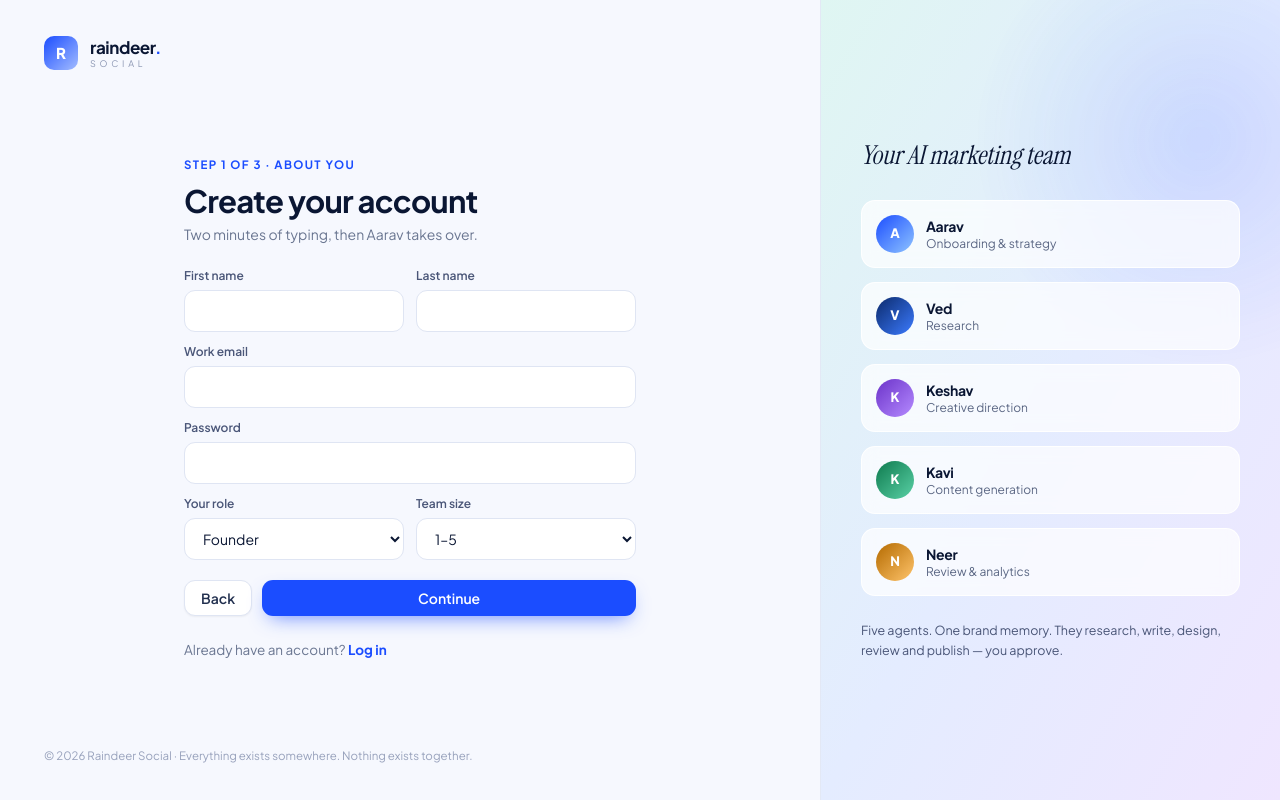
Test: SignupPage › shows the backend's error message and doesn't navigate when the email is already taken
Type "Ananya" into the field labelled "First name".
click(294, 311); type("Ananya")  # box [184,290,404,332]
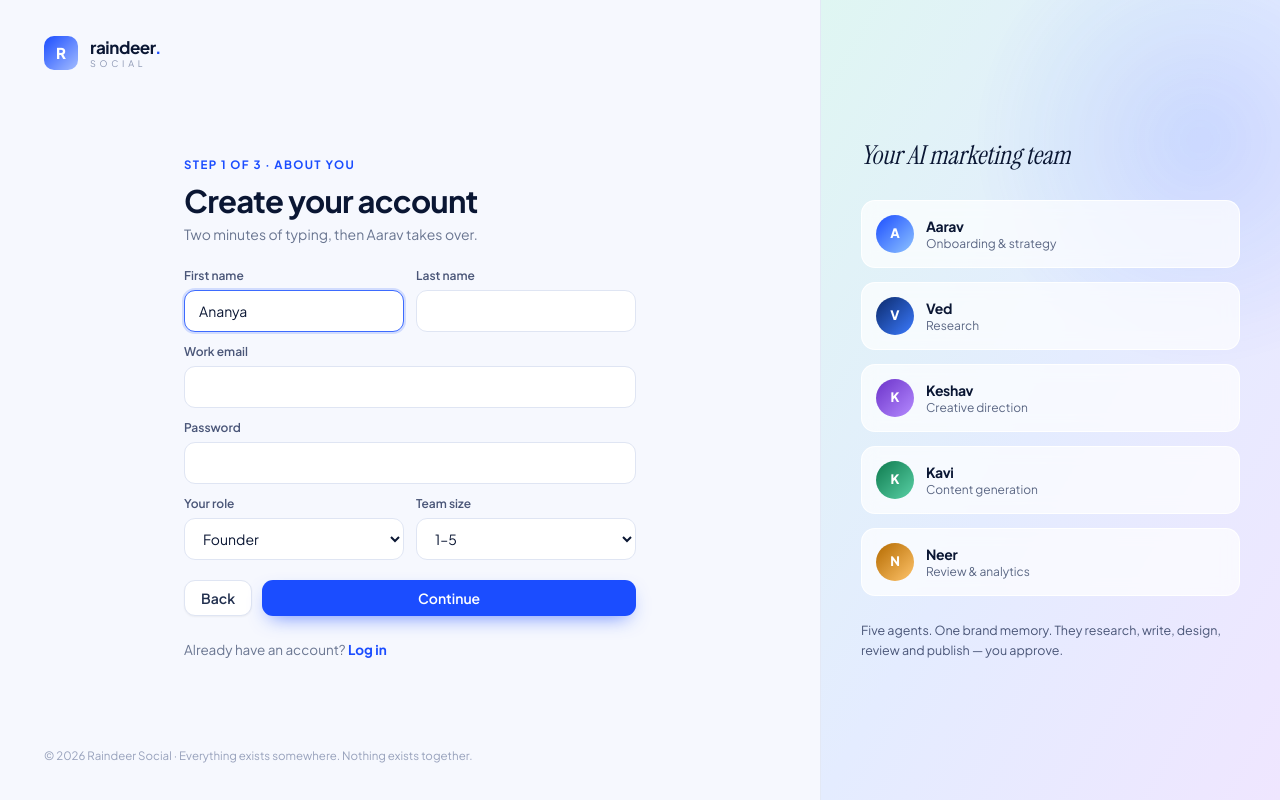
Type "Rao" into the field labelled "Last name".
click(526, 311); type("Rao")  # box [416,290,636,332]
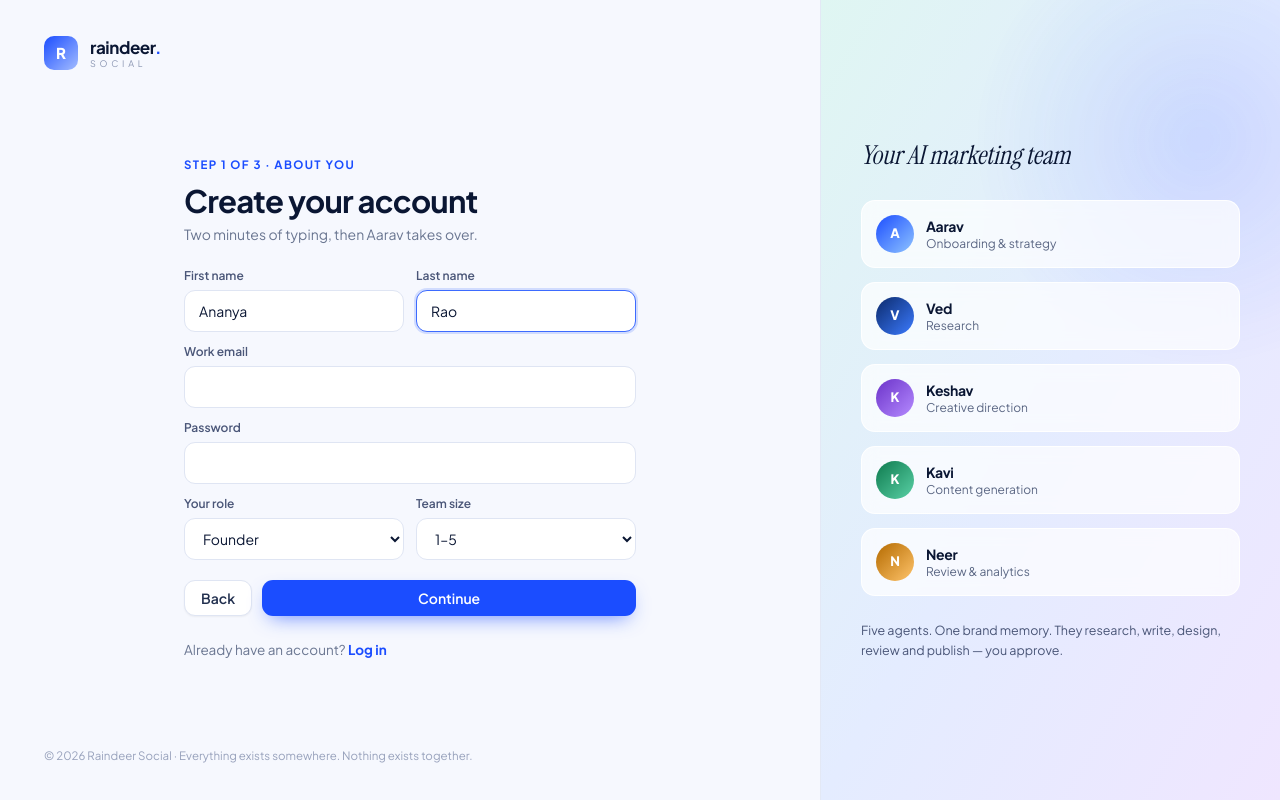
Type "taken@lexstart.in" into the field labelled "Work email".
click(410, 387); type("taken@lexstart.in")  # box [184,366,636,408]
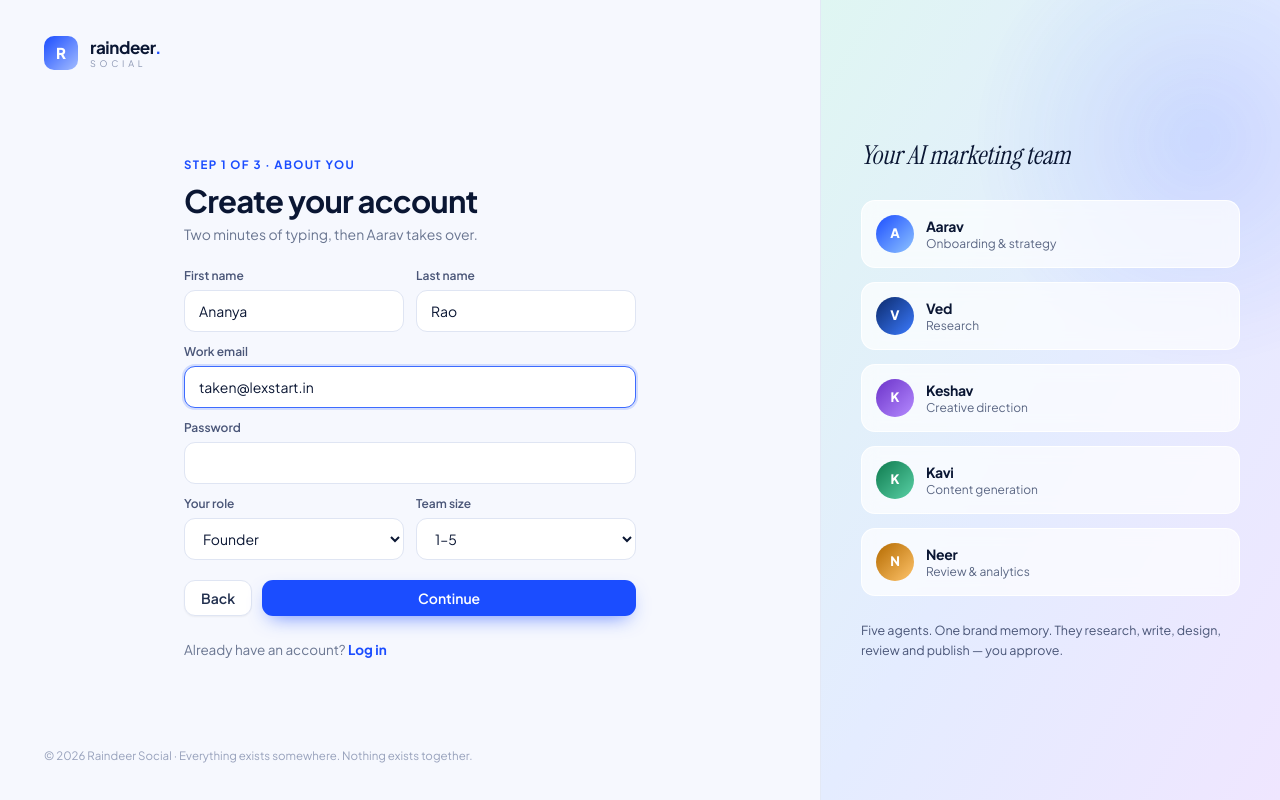
Type "correct horse battery staple" into the password field labelled "Password".
click(410, 463); type("correct horse battery staple")  # box [184,442,636,484]
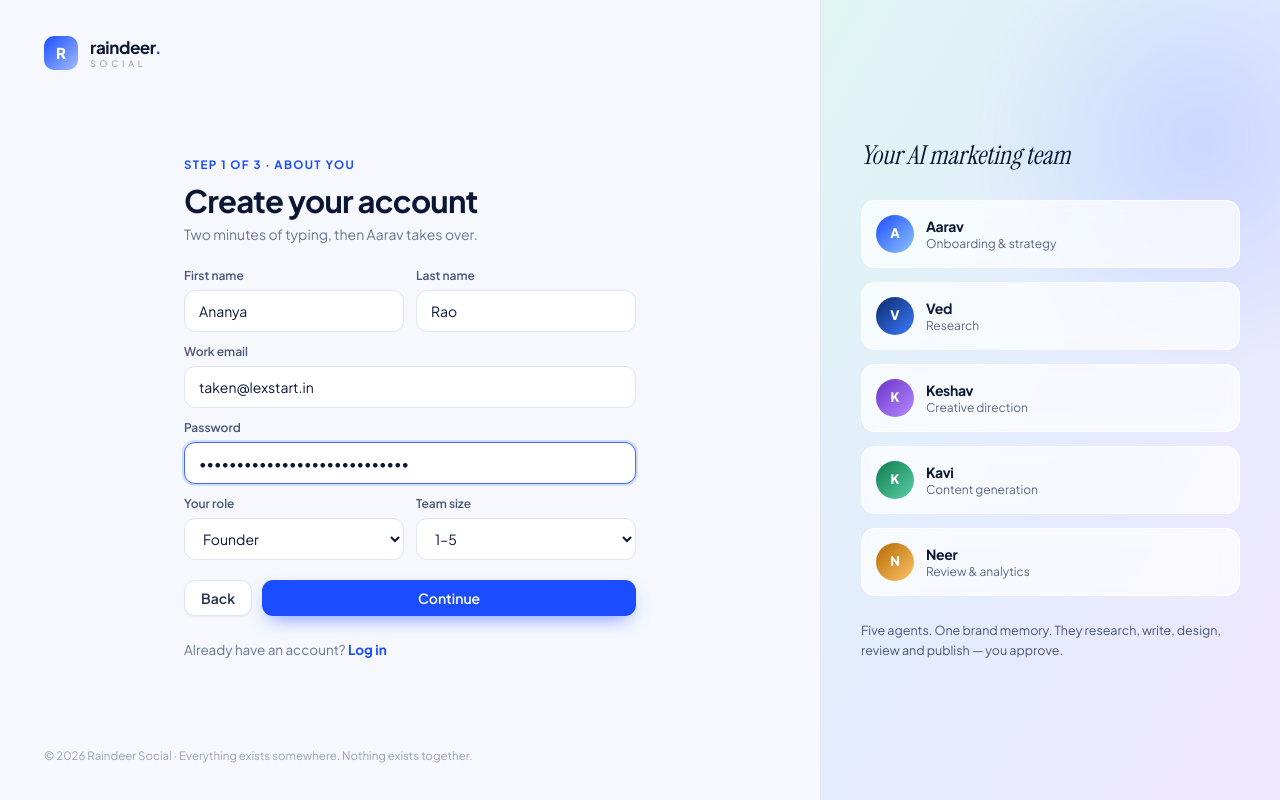
Click the button "Continue".
click(449, 598)  # box [262,580,636,616]
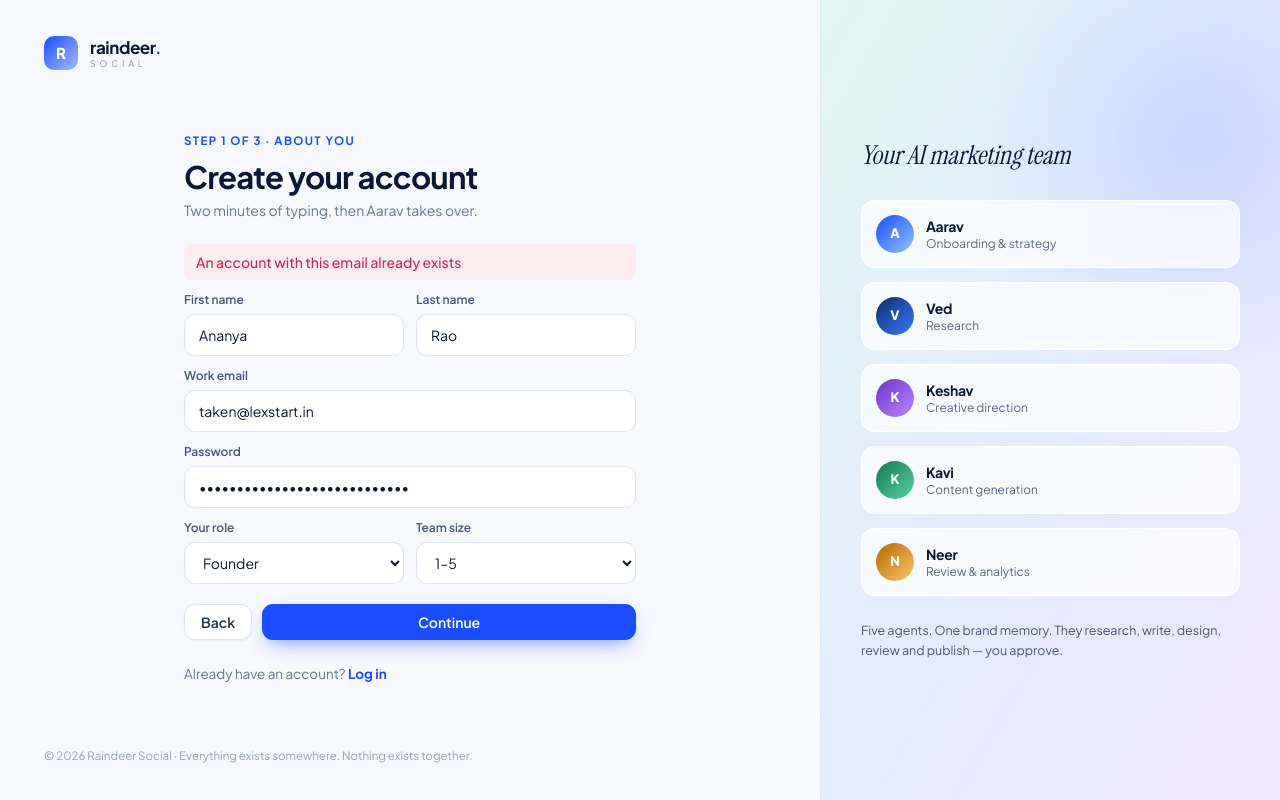
Expected: the text "An account with this email already exists" is shown, [184,244,636,280]
